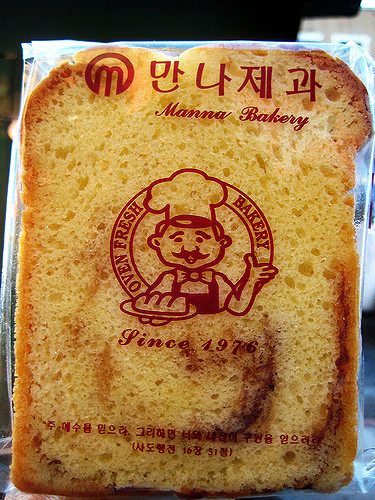slice of bread: (16, 58, 363, 496)
